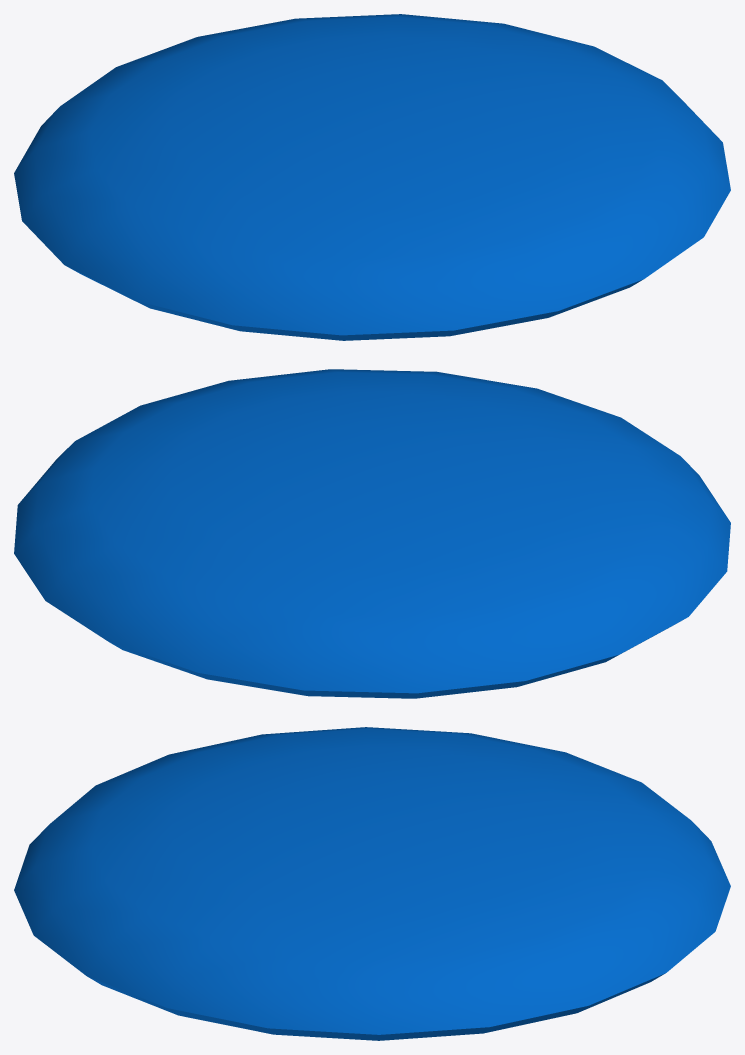
Rendered from Grru_Shield.FBX.
3 views of the same model, one above another, from view 1: azimuth 30°, elevation 25°; view 2: azimuth 150°, elevation 25°; view 3: azimuth 270°, elevation 25° (orthographic).
Parts seen in each view (by area): view 1: Weapon_Sheild; view 2: Weapon_Sheild; view 3: Weapon_Sheild.
Part boxes in pixels (x1=…): Weapon_Sheild: x1=14, y1=14, x2=730, y2=340; Weapon_Sheild: x1=14, y1=369, x2=730, y2=698; Weapon_Sheild: x1=14, y1=727, x2=730, y2=1040.
Size of the model in its own units: 69.23 by 9.46 by 69.24.
